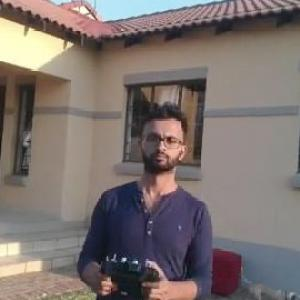follow: (69, 98, 219, 299)
null: (230, 264, 299, 299)
